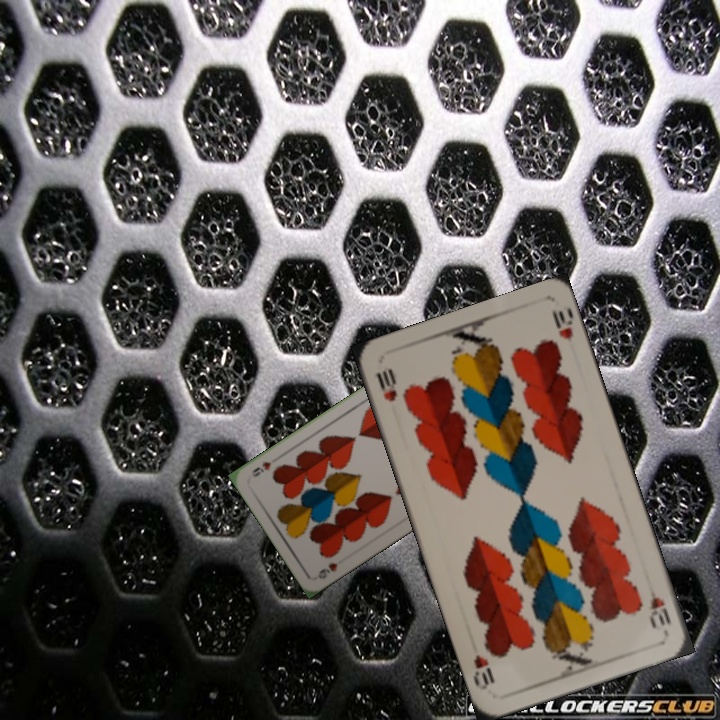H10: (642, 578, 674, 631), (372, 364, 400, 404)
H9: (314, 558, 340, 582)
